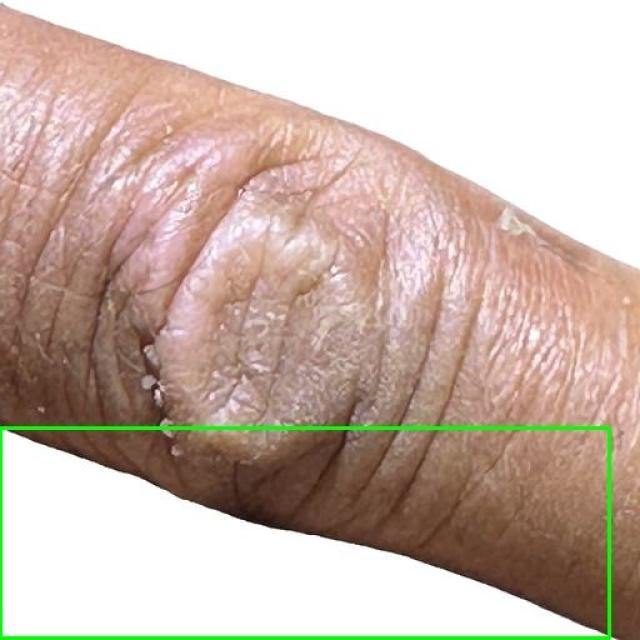Contact Dermatitis: (0, 429, 610, 639)
